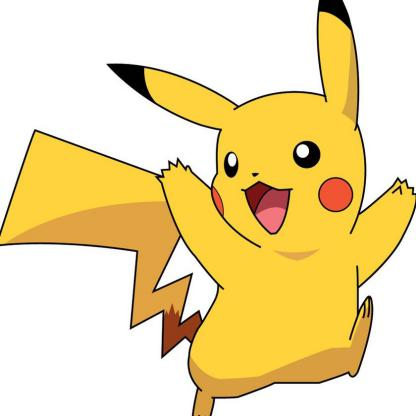Pikachu: (5, 4, 416, 416)
